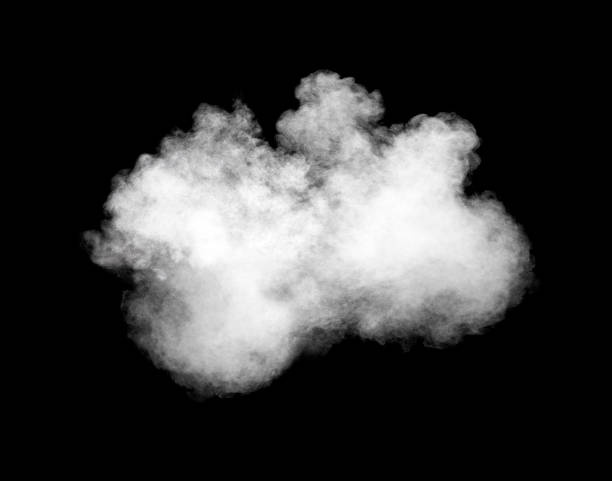smoke: (86, 65, 534, 398)
